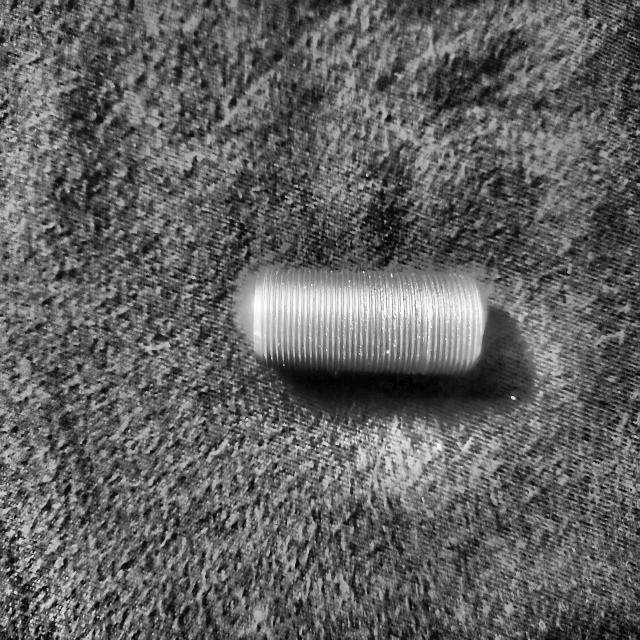Broken: (252, 263, 486, 380)
